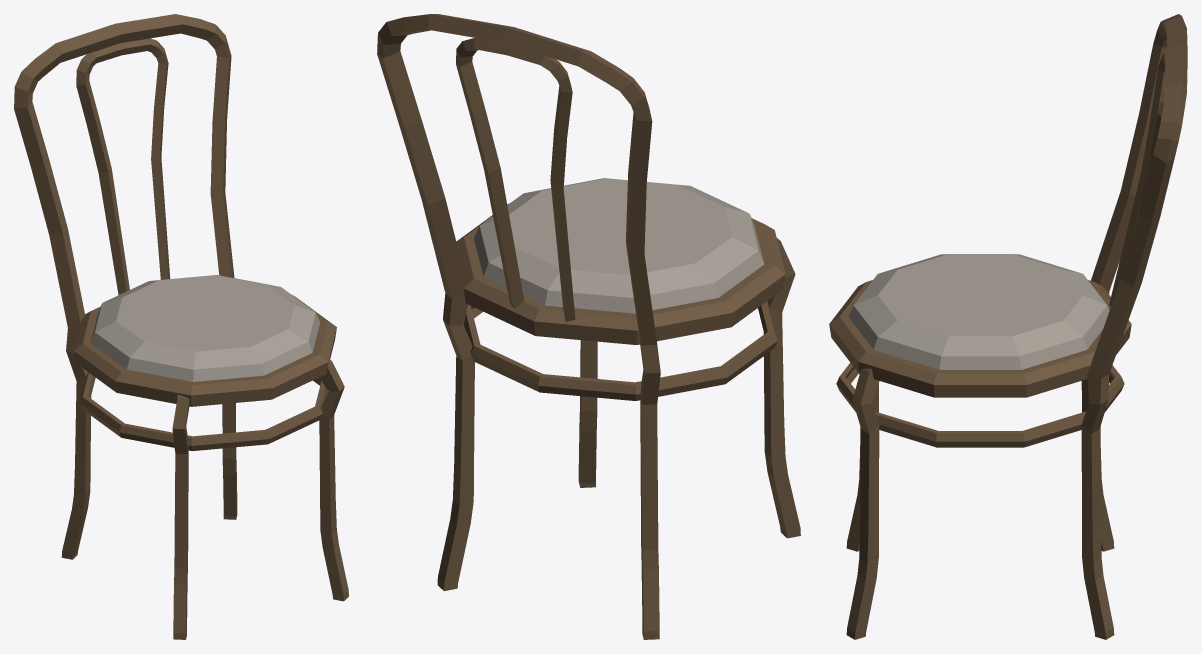
The model's file is Chair.glb.
3 views of the same model, side by side, from view 1: azimuth 30°, elevation 25°; view 2: azimuth 150°, elevation 25°; view 3: azimuth 270°, elevation 25° (orthographic). The views are drawn at different scales.
Parts seen in each view (by area): view 1: Chair; view 2: Chair; view 3: Chair.
Part boxes in pixels (<box>): Chair: <box>14,14,348,639</box>; Chair: <box>377,14,800,639</box>; Chair: <box>829,14,1187,639</box>.
Size of the model in its own units: 0.5072 by 1.07 by 0.6321.
